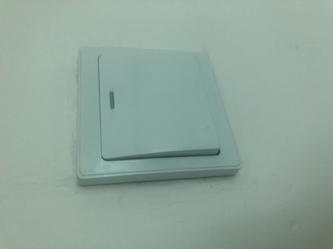switch: (90, 47, 227, 165)
